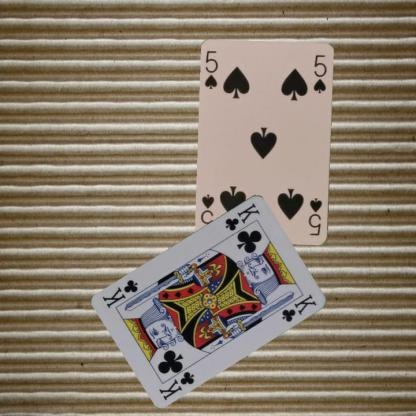5s: (306, 196, 324, 237), (202, 48, 219, 91)
Kc: (156, 368, 196, 401), (223, 200, 261, 232)
